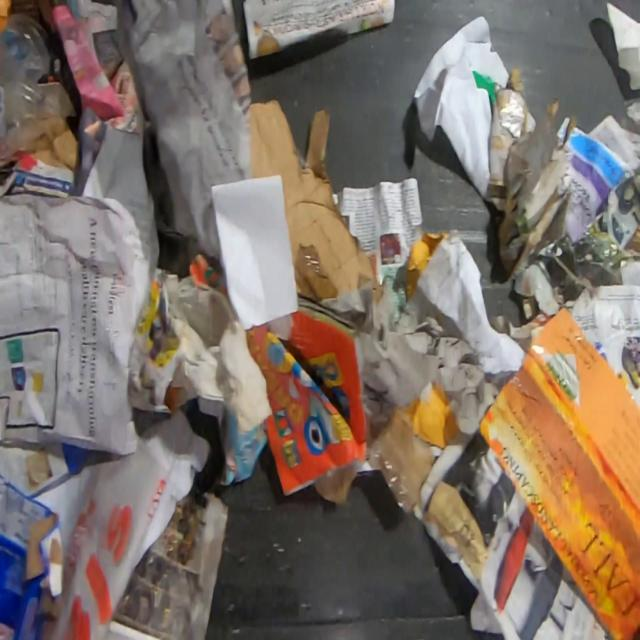cardboard: (250, 98, 374, 302), (487, 64, 578, 283), (0, 441, 90, 639), (368, 408, 439, 515)
rigid_plastic: (1, 11, 75, 165)
